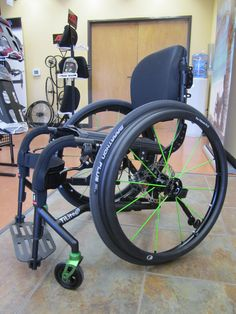wheelchair: (6, 43, 225, 291)
